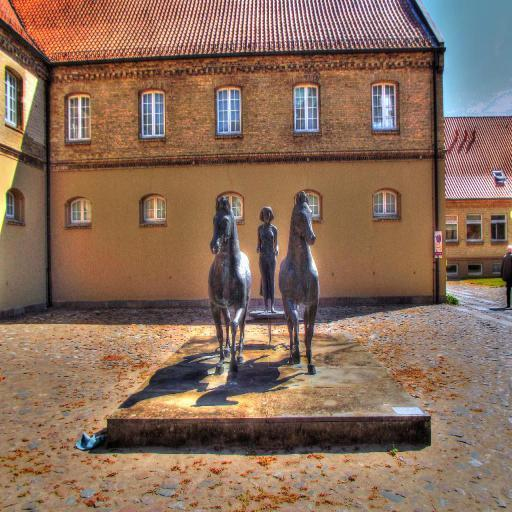horse: (206, 196, 253, 376), (276, 190, 320, 376)
